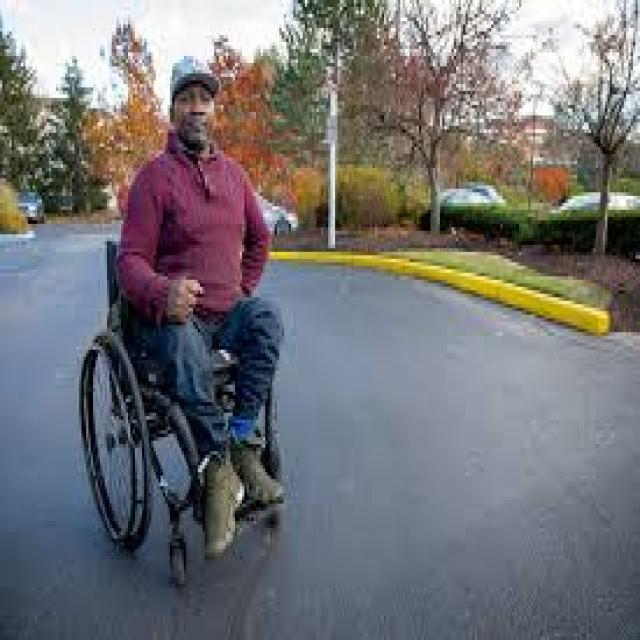wheelchairs: (65, 238, 289, 608)
